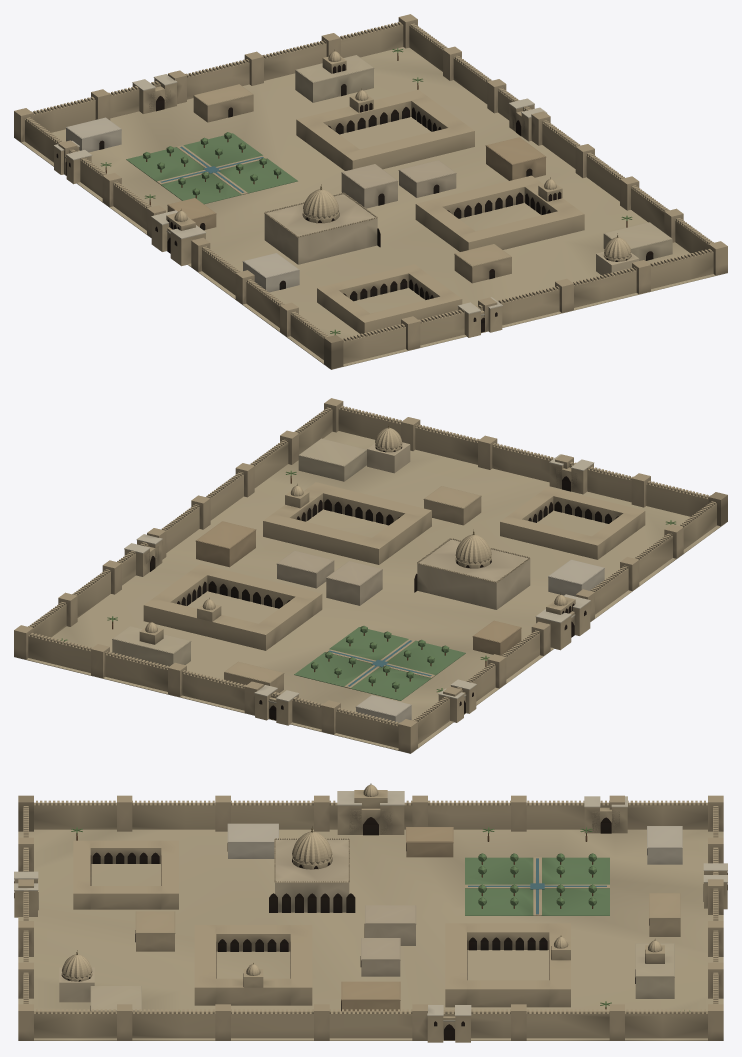
File: eastern-palace.glb
3 renders of one model, top to bottom at view 1: azimuth 30°, elevation 25°; view 2: azimuth 150°, elevation 25°; view 3: azimuth 270°, elevation 25°, orthographic. The views are drawn at different scales.
Visible parts, largest first — view 1: p2_courts, p0_ground, p1_walls, p3_domes; view 2: p2_courts, p0_ground, p1_walls, p3_domes; view 3: p0_ground, p2_courts, p1_walls, p3_domes.
Boxes of the visible parts, x1=… form: p2_courts: x1=66, y1=55, x2=672, y2=334; p0_ground: x1=14, y1=47, x2=727, y2=369; p1_walls: x1=14, y1=14, x2=727, y2=369; p3_domes: x1=101, y1=48, x2=639, y2=334; p2_courts: x1=112, y1=438, x2=645, y2=723; p0_ground: x1=14, y1=431, x2=727, y2=753; p1_walls: x1=14, y1=398, x2=727, y2=753; p3_domes: x1=58, y1=424, x2=675, y2=692; p0_ground: x1=18, y1=829, x2=723, y2=1040; p2_courts: x1=73, y1=823, x2=682, y2=1011; p1_walls: x1=14, y1=783, x2=727, y2=1042; p3_domes: x1=59, y1=826, x2=690, y2=1011.
Size of the model in its own units: 266 by 37.14 by 364.
